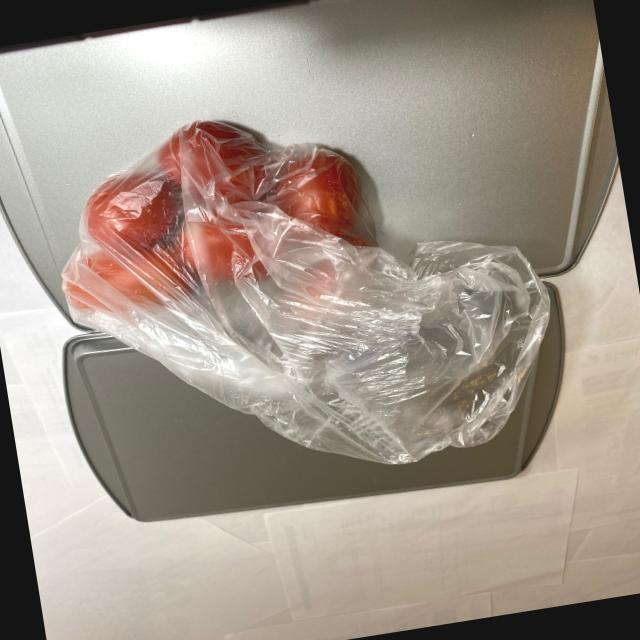tomato: (40, 90, 401, 354)
